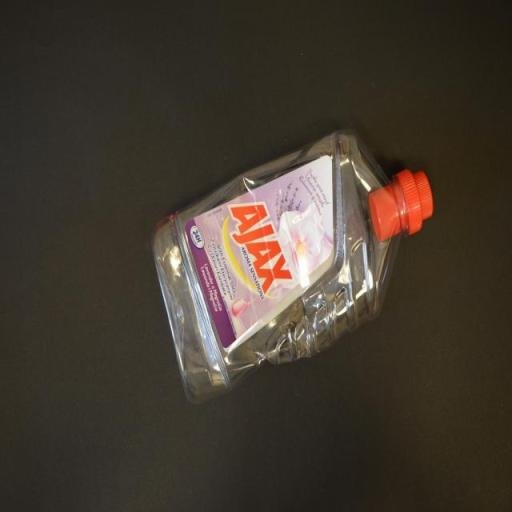plastic: (150, 128, 436, 404)
